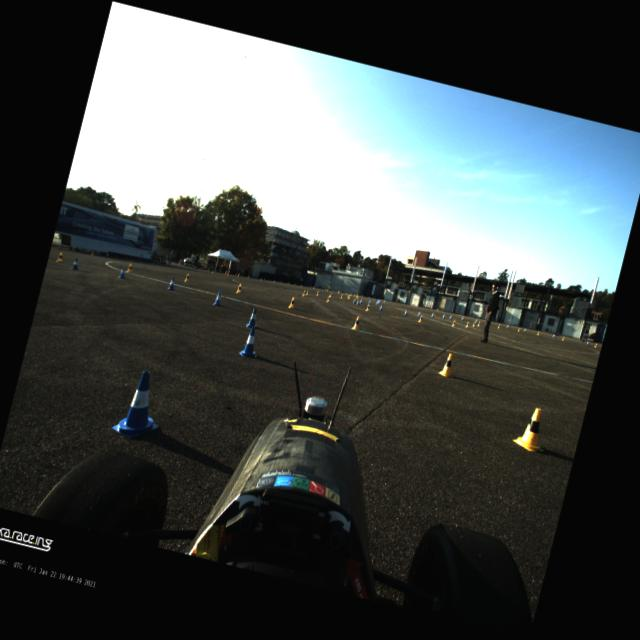blue_cone: (110, 366, 170, 444), (239, 324, 263, 358), (245, 306, 260, 328), (212, 290, 224, 306), (167, 276, 177, 290), (118, 266, 128, 279), (70, 257, 80, 270), (403, 309, 408, 315), (417, 310, 421, 316), (378, 304, 382, 310), (356, 299, 360, 305), (352, 298, 356, 304), (57, 244, 61, 250), (448, 314, 452, 319), (430, 312, 434, 317), (358, 298, 362, 303), (375, 300, 378, 305), (207, 267, 210, 272), (377, 299, 380, 304), (586, 340, 589, 344), (460, 316, 463, 320), (234, 272, 237, 276), (368, 300, 371, 304), (552, 333, 554, 338), (442, 313, 444, 318), (378, 299, 381, 302), (524, 328, 526, 332), (506, 324, 508, 328), (360, 294, 362, 298), (376, 298, 378, 302), (475, 318, 477, 322), (138, 258, 140, 262), (188, 266, 190, 270), (368, 296, 370, 299), (373, 297, 375, 300), (383, 300, 385, 303), (107, 254, 109, 257), (324, 288, 326, 290), (169, 264, 171, 266), (248, 276, 250, 278), (310, 286, 311, 288), (294, 283, 295, 285), (264, 278, 264, 280), (280, 280, 280, 282)
large_orange_cone: (224, 269, 227, 274), (237, 272, 239, 277)
yellow_cone: (510, 404, 553, 454), (437, 351, 457, 378), (350, 314, 360, 330), (288, 296, 296, 309), (56, 250, 64, 262), (235, 282, 242, 294), (183, 272, 190, 282), (126, 262, 132, 272), (450, 320, 456, 328), (365, 304, 370, 312), (418, 314, 423, 322), (326, 295, 330, 303), (465, 320, 469, 328), (301, 289, 305, 296), (316, 290, 320, 296), (347, 294, 351, 300), (472, 321, 476, 327), (516, 326, 520, 332), (536, 330, 540, 336), (90, 250, 94, 256), (329, 292, 332, 298), (355, 294, 359, 298), (477, 321, 480, 326), (306, 290, 308, 296), (340, 294, 343, 298), (497, 324, 500, 328), (128, 257, 131, 261), (174, 264, 177, 268), (349, 292, 352, 296), (562, 336, 564, 341), (594, 343, 596, 348), (211, 270, 213, 274), (152, 260, 154, 264), (226, 272, 228, 276), (347, 294, 349, 298), (326, 288, 328, 292), (247, 275, 249, 278), (300, 284, 302, 287), (312, 286, 314, 289), (338, 290, 340, 293), (345, 292, 347, 295), (193, 268, 196, 270), (287, 281, 289, 284), (353, 294, 355, 296), (260, 278, 262, 280), (273, 280, 274, 282)
